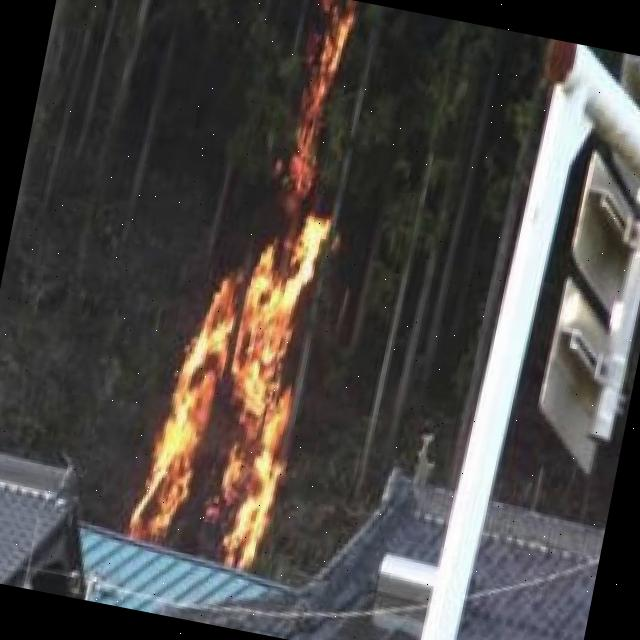fire: (119, 0, 380, 578)
